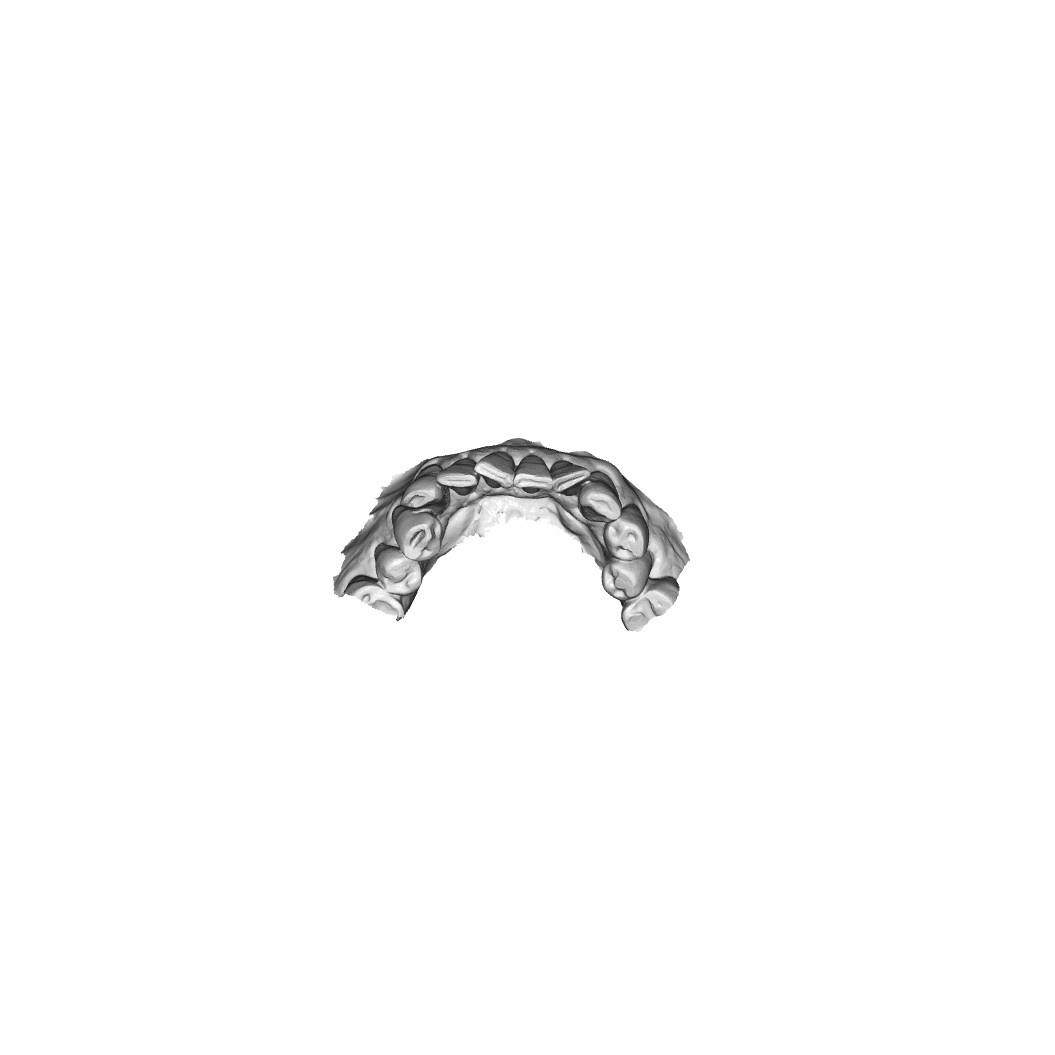canine: (401, 478, 449, 518), (582, 478, 621, 527)
incisor: (516, 457, 551, 497), (476, 452, 515, 487), (554, 456, 591, 487), (442, 458, 477, 490)
premolar: (376, 552, 421, 596), (605, 515, 648, 561), (602, 556, 650, 597), (397, 512, 441, 555)
